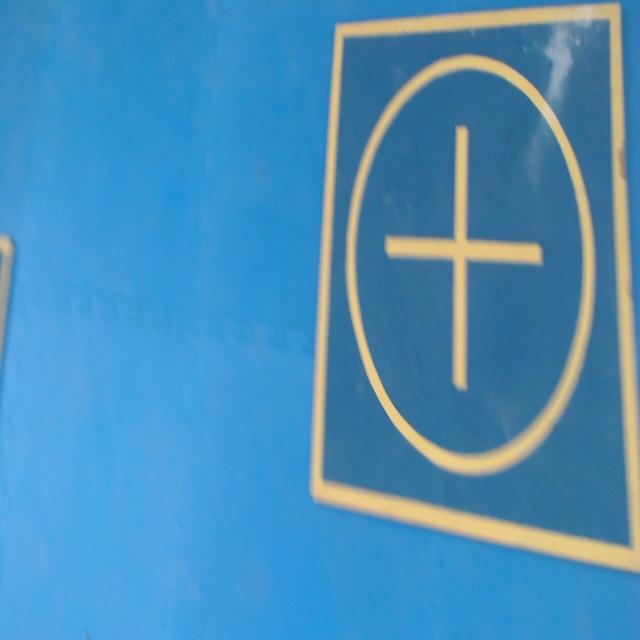base_pouso: (310, 5, 639, 573)
